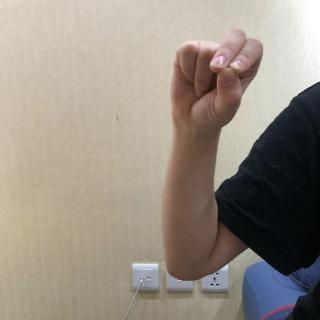QAAF: (164, 27, 270, 141)
